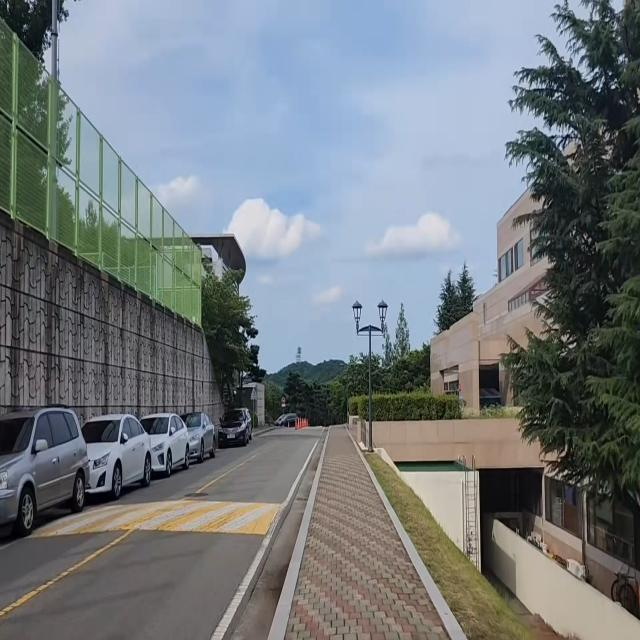road: (0, 428, 329, 640)
sidewalk: (268, 427, 469, 640)
